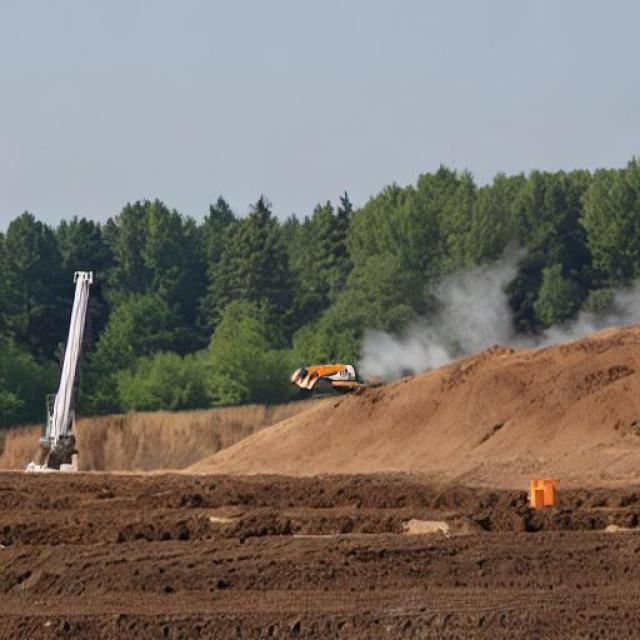excavator: (109, 168, 476, 566)
